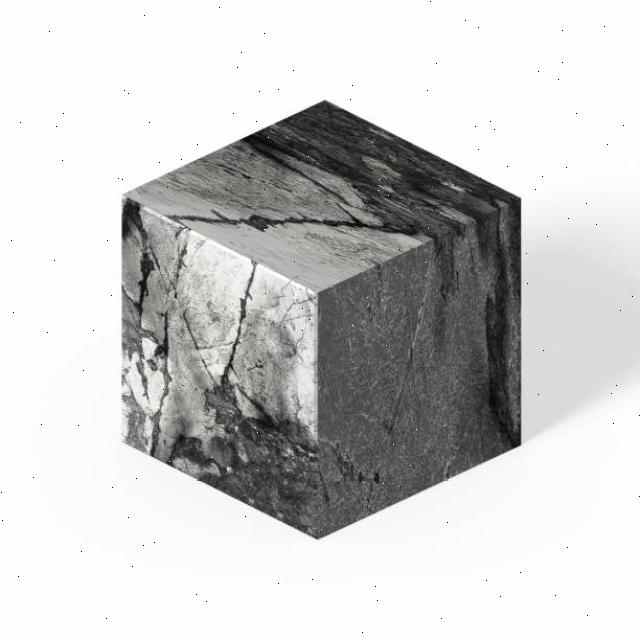Metamorphic: (119, 99, 546, 540)
